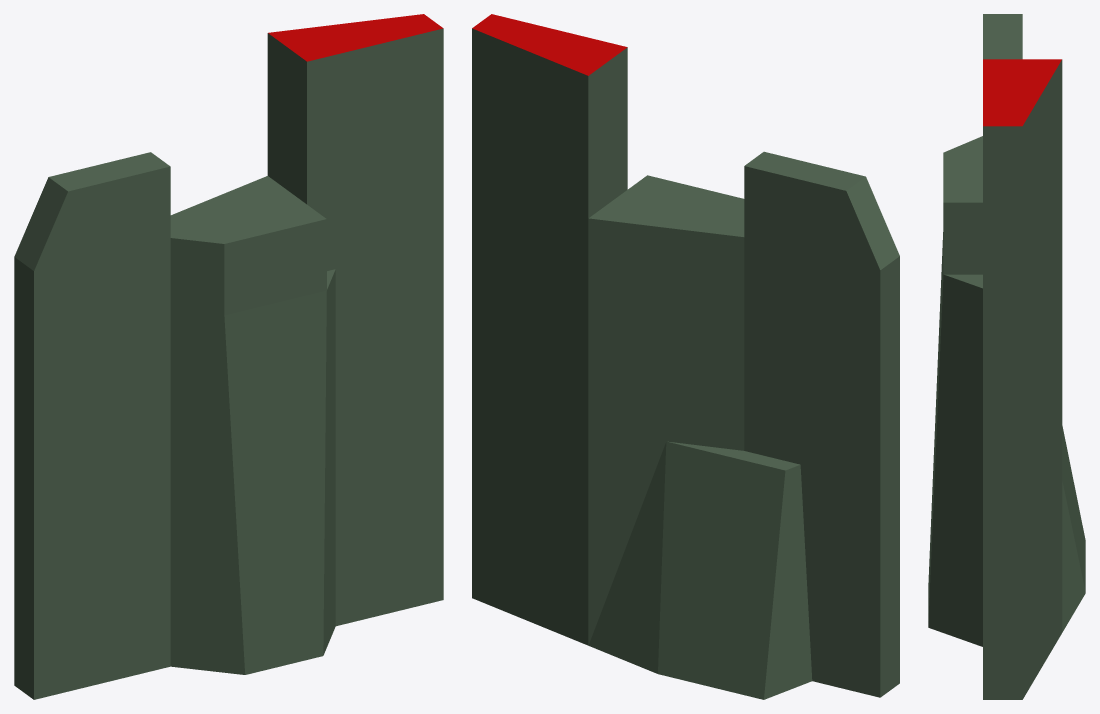
Rendered from x_SKALA_VNUTR_B1_B21_14_1_rmstrd.fbx.
3 renders of one model, left to right at view 1: azimuth 30°, elevation 25°; view 2: azimuth 150°, elevation 25°; view 3: azimuth 270°, elevation 25°, orthographic.
Visible parts, largest first — view 1: x_SKALA_VNUTR_B1_B21_14_1_rmstrd1; view 2: x_SKALA_VNUTR_B1_B21_14_1_rmstrd1; view 3: x_SKALA_VNUTR_B1_B21_14_1_rmstrd1.
Boxes of the visible parts, left/top/right/bottom form: x_SKALA_VNUTR_B1_B21_14_1_rmstrd1: left=14, top=14, right=443, bottom=699; x_SKALA_VNUTR_B1_B21_14_1_rmstrd1: left=472, top=14, right=899, bottom=699; x_SKALA_VNUTR_B1_B21_14_1_rmstrd1: left=928, top=14, right=1085, bottom=699.
Bounding box in the file's own units: 3 × 4 × 0.9956.
